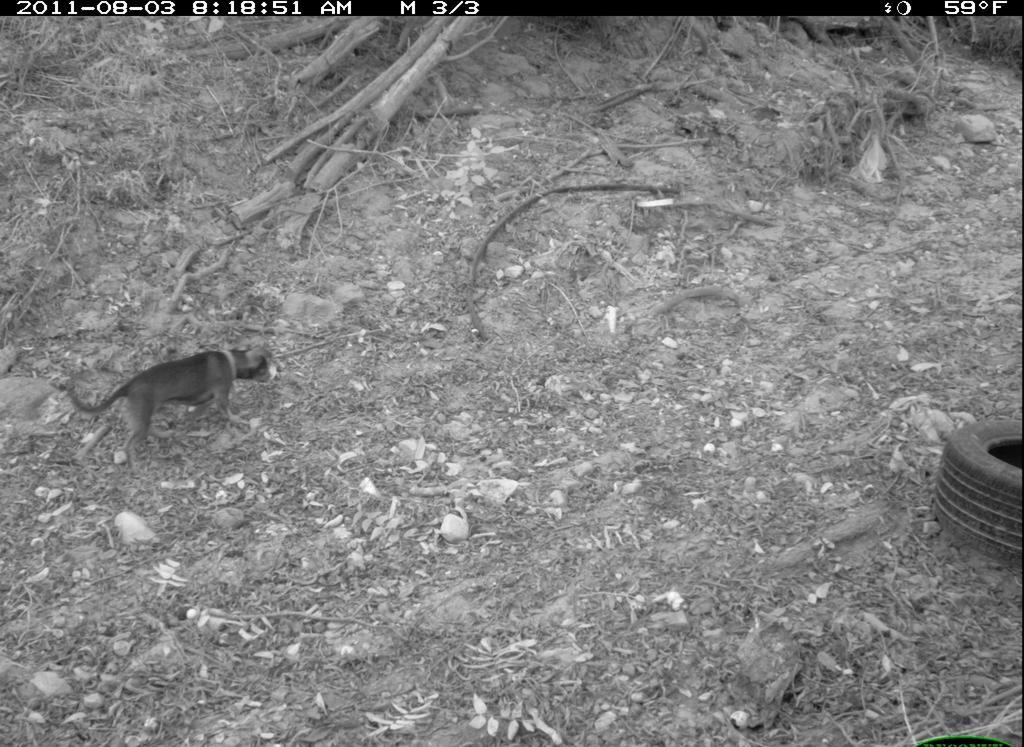dog: (63, 337, 303, 472)
